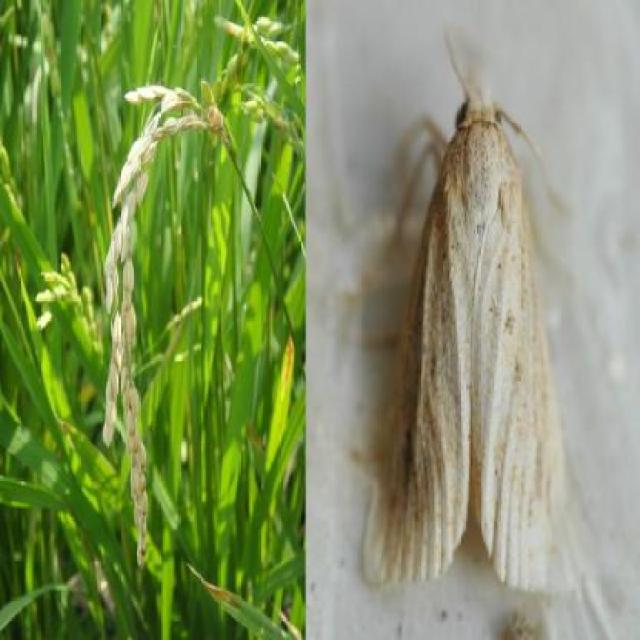stem-borer: (358, 56, 572, 590)
